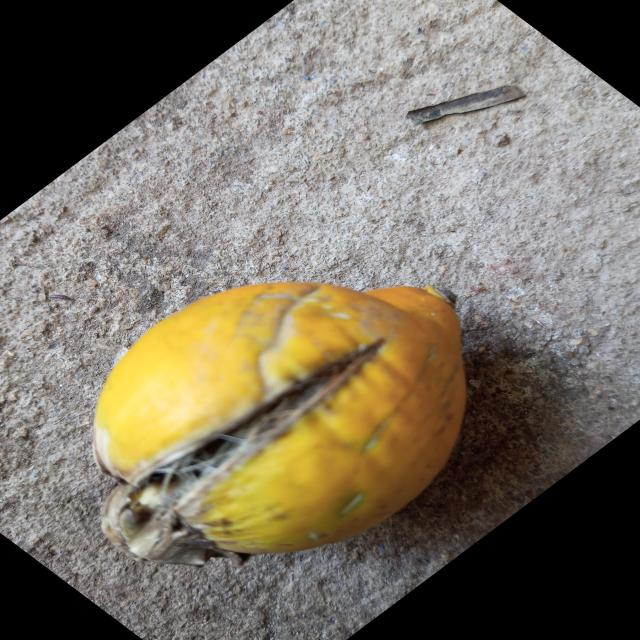damaged: (94, 282, 466, 565)
